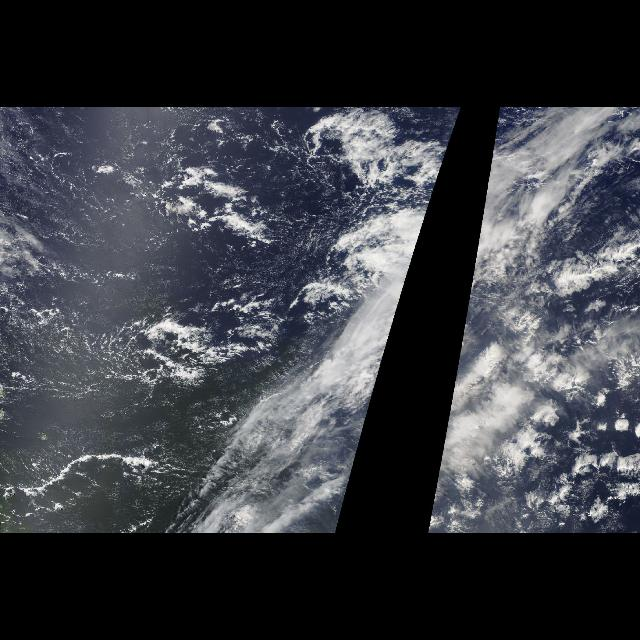Fish: (534, 234, 636, 294)
Flower: (495, 365, 637, 529)
Gravel: (0, 110, 426, 406)
Sugar: (2, 334, 138, 450)
